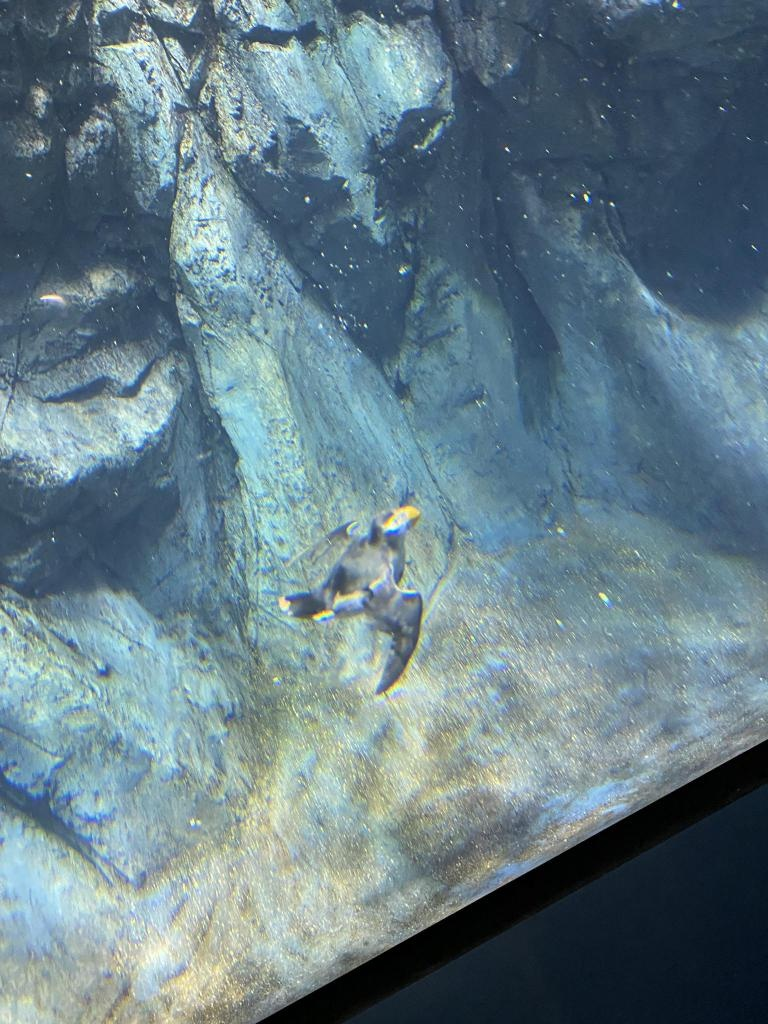fish: (219, 166, 336, 240)
puffin: (276, 494, 440, 694)
